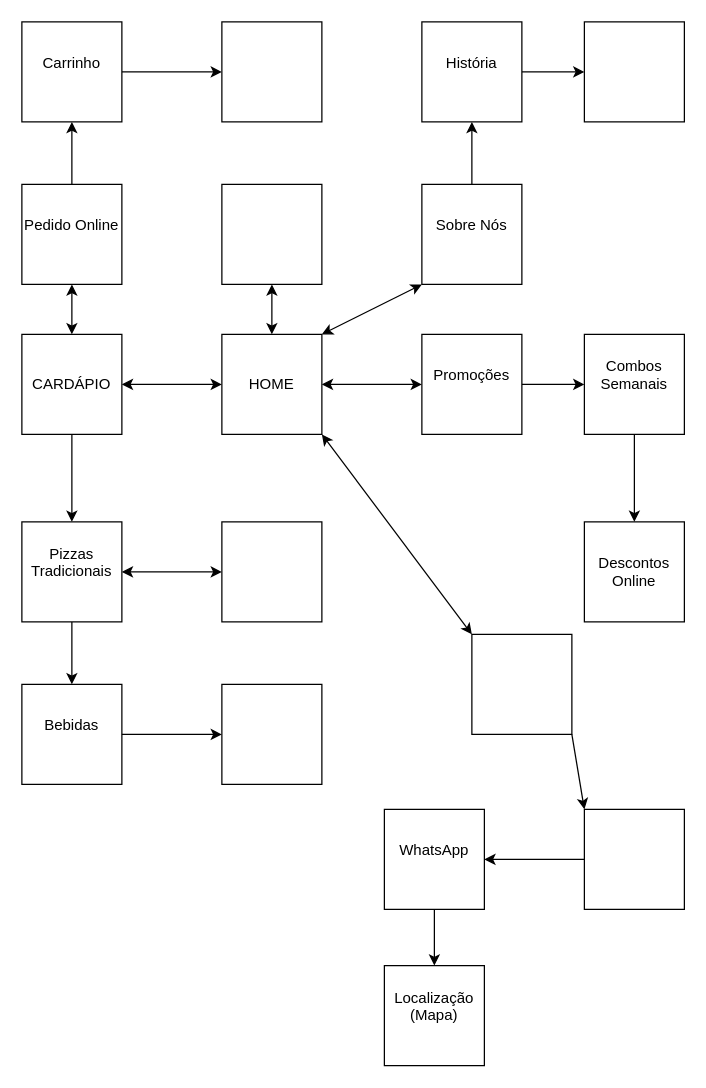
This 706x1088 diagram has some shape labels left out. The shapes that lost their labels are listed below. From the top down, each one's centre as x and y in pixels, then its label:
At (x=271, y=71): "Pagamento".
At (x=633, y=71): "Equipe".
At (x=271, y=233): "Login / Cadastro".
At (x=271, y=571): "Pizzas Especiais".
At (x=521, y=683): "Contato".
At (x=271, y=733): "Sobremesas".
At (x=633, y=858): "Telefone".
